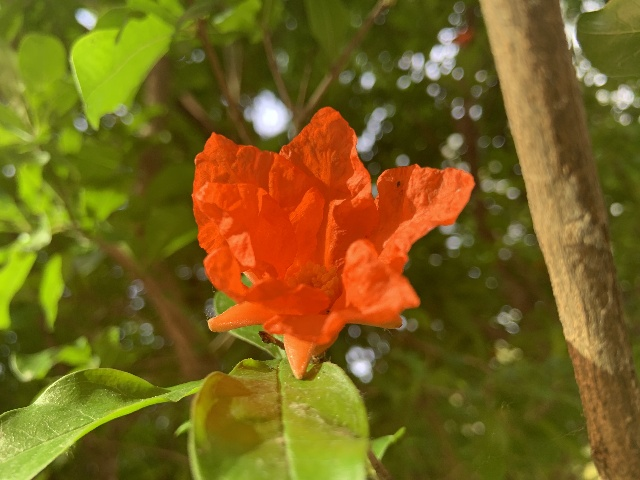flower: (190, 105, 474, 378)
